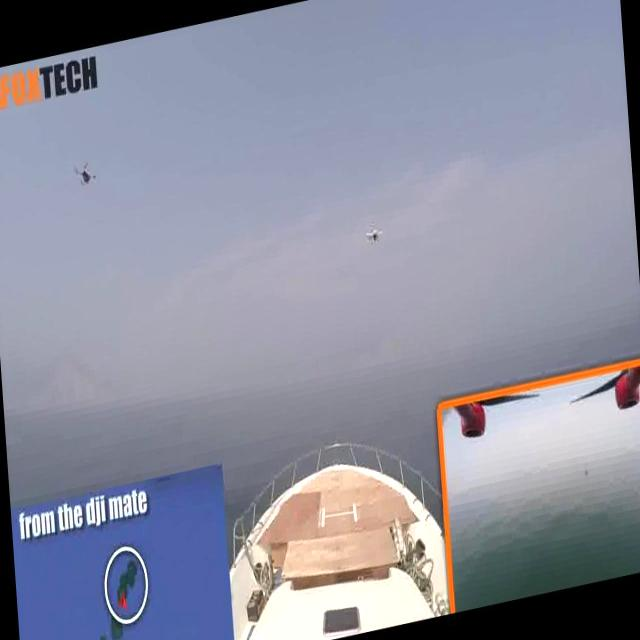drone: (71, 162, 99, 194), (363, 222, 385, 248)
